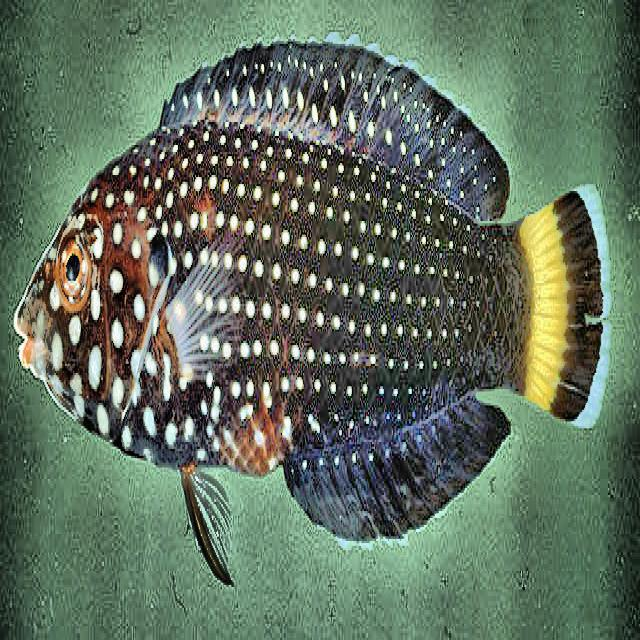fish: (12, 29, 612, 596)
